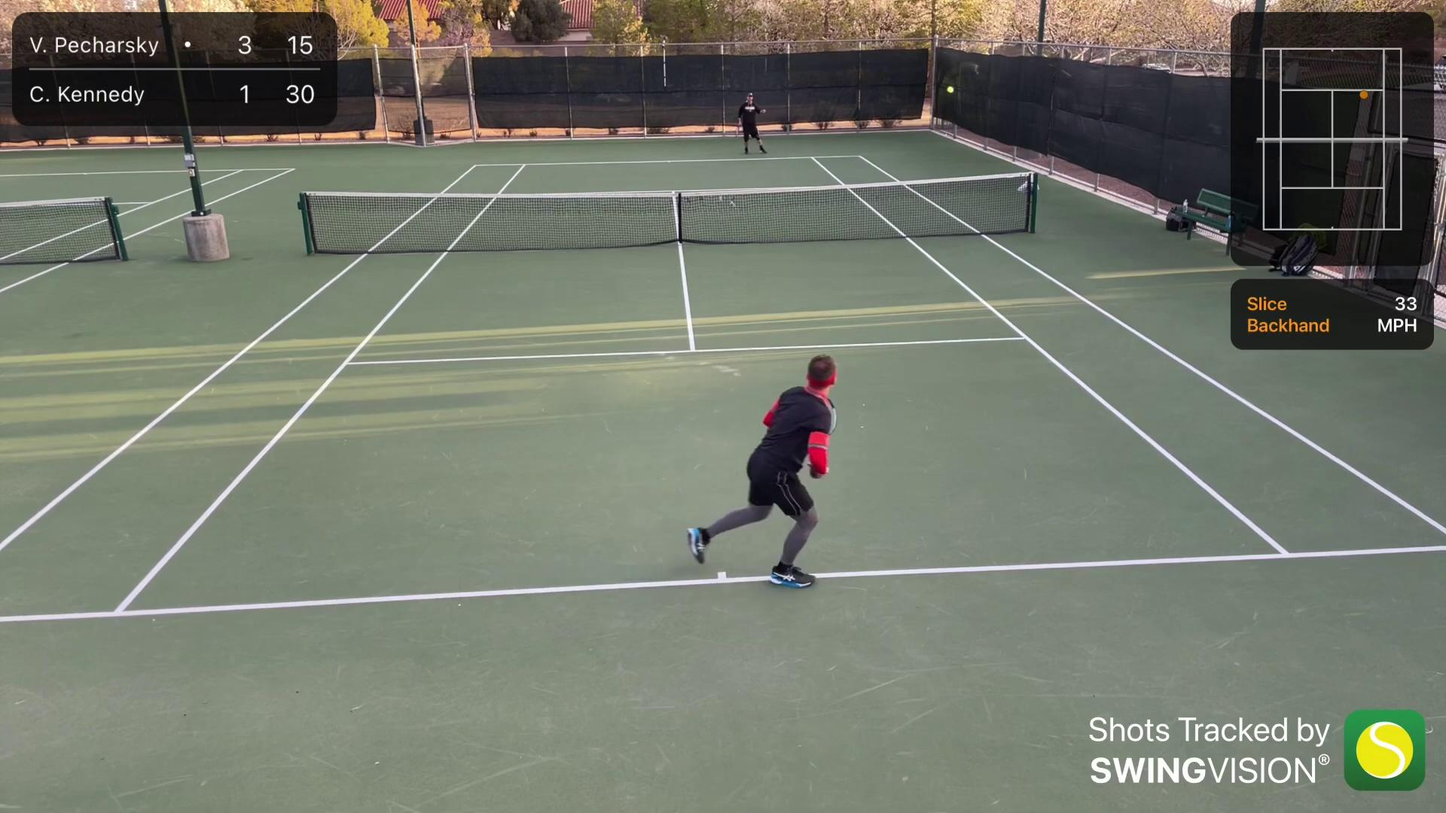ball: (945, 85, 955, 94)
